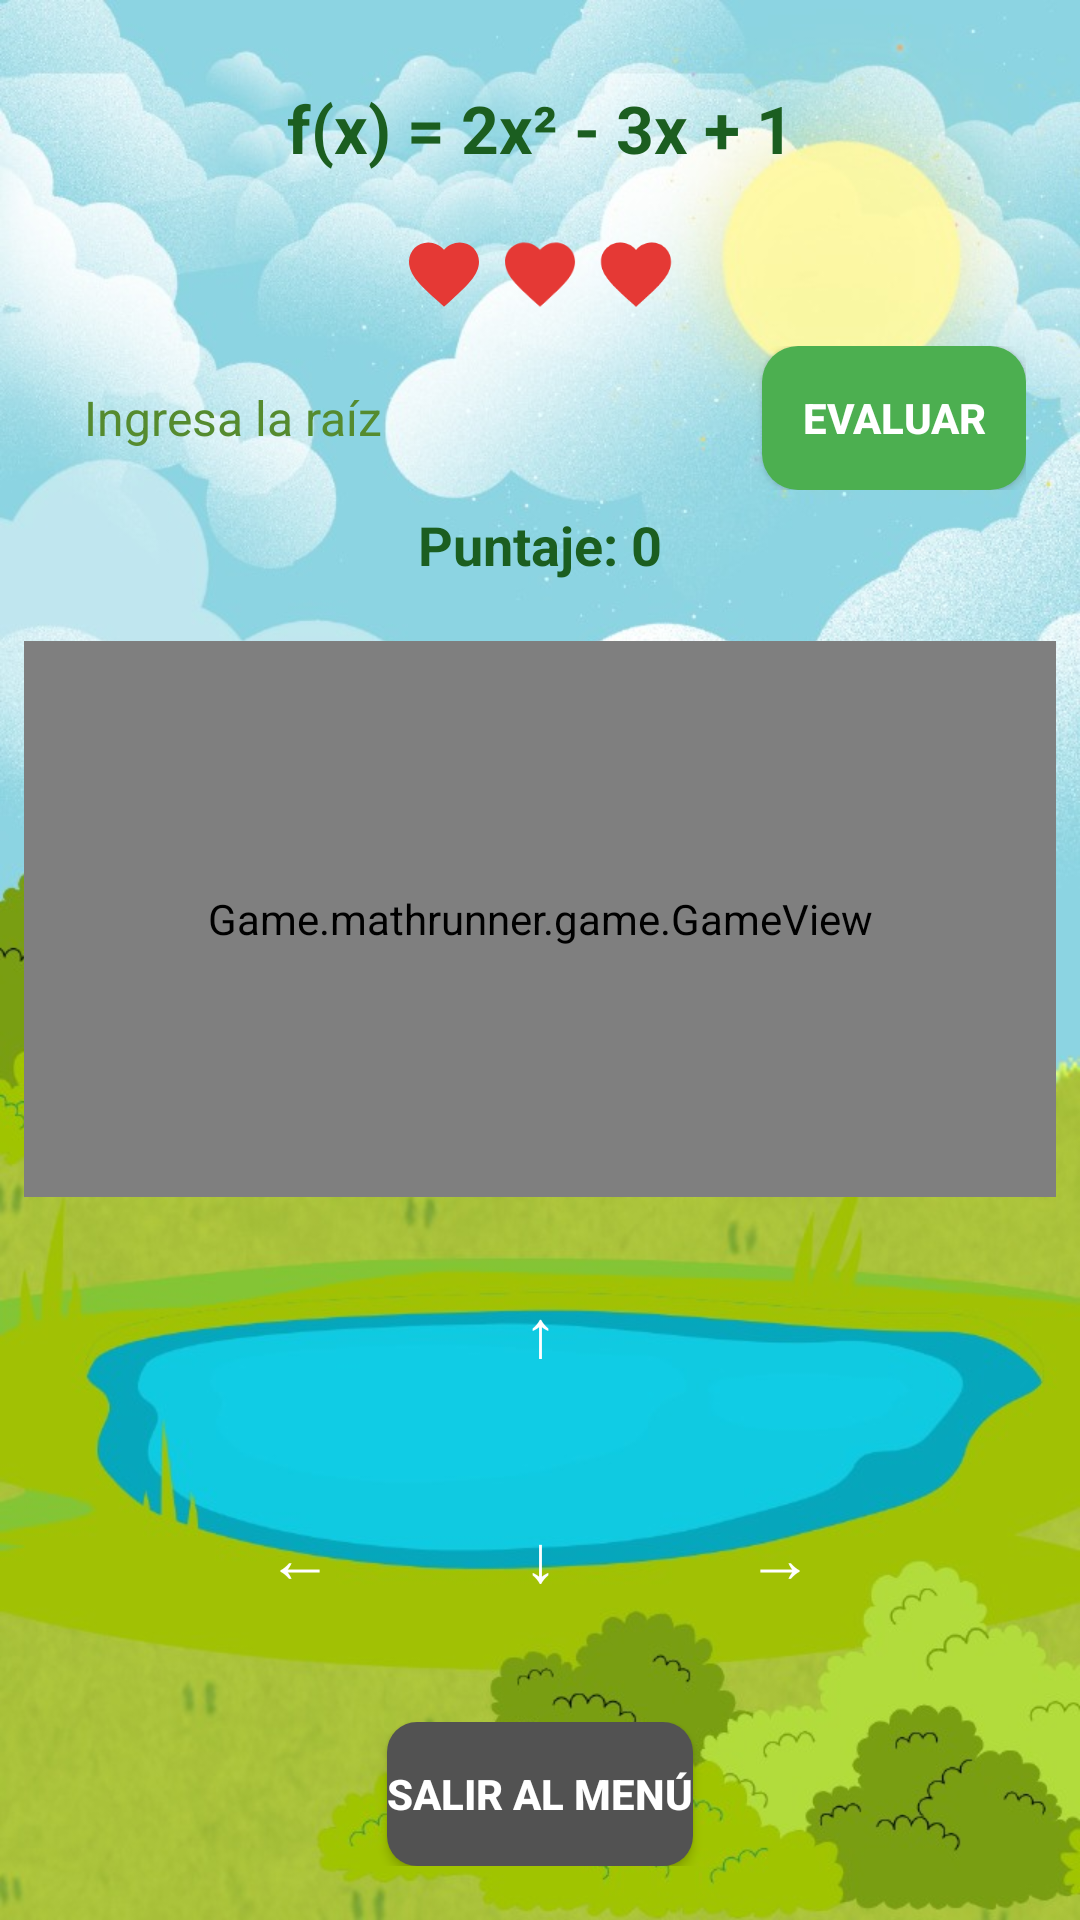

Screen size 1080×1920. Icon name, then its center in pixels as [x,y]:
heart full: [444,274], [540,274], [637,274]
